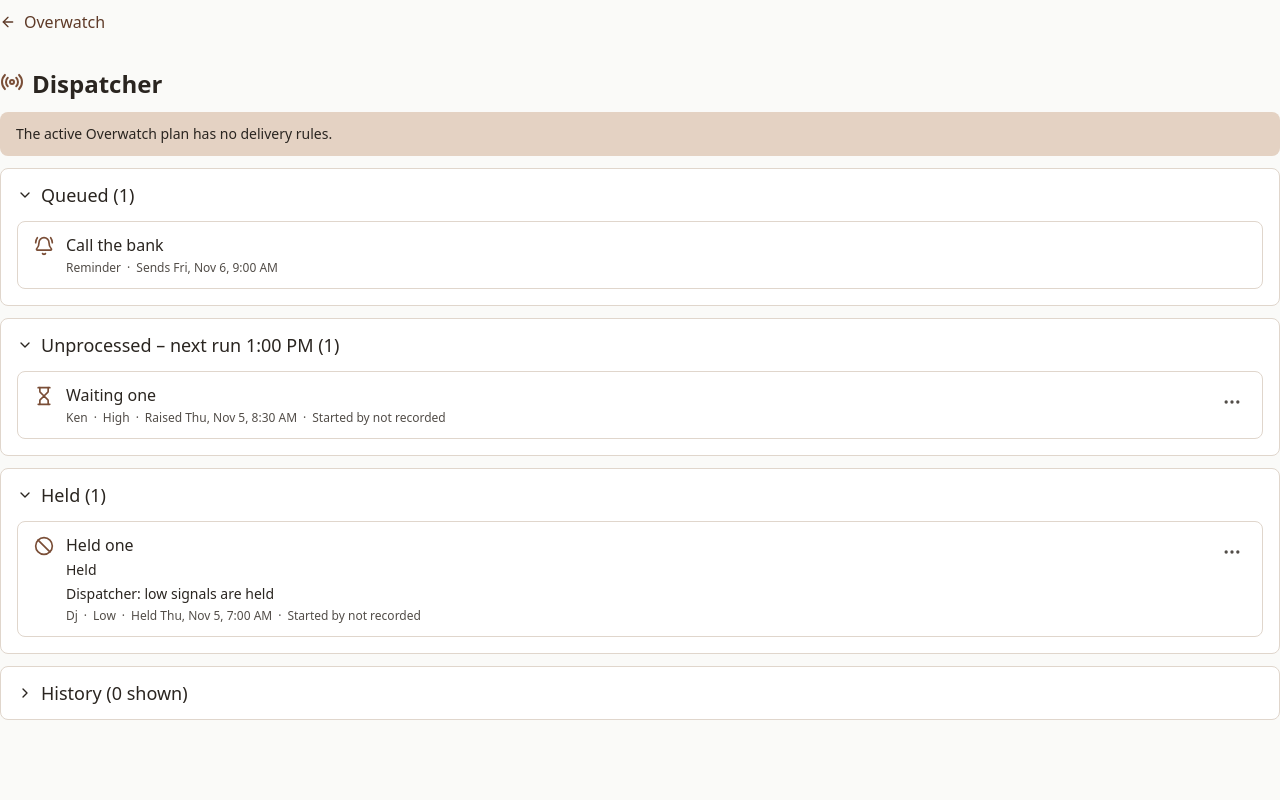
⋯ is on Unprocessed and Held cards only, above the link, and opens the actions
The image size is (1280, 800).
Expected: the button named "Actions for Held one" is shown, [1210,530,1254,574]
Click the button named "Actions for Waiting one" at x=1232, y=402, box [1210,380,1254,424]
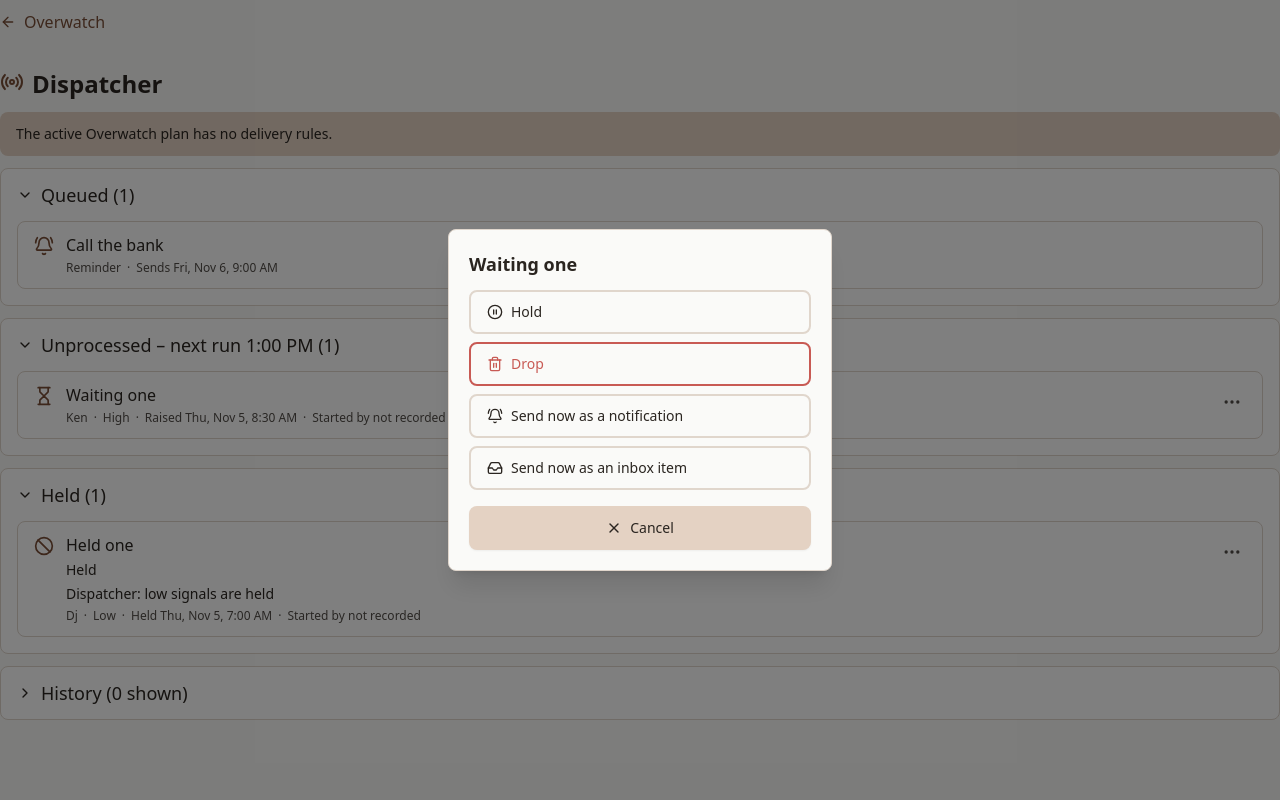
Result: the button "Hold" is shown at [469,290,811,334]
Click the button "Cancel" at x=640, y=528, box [469,506,811,550]
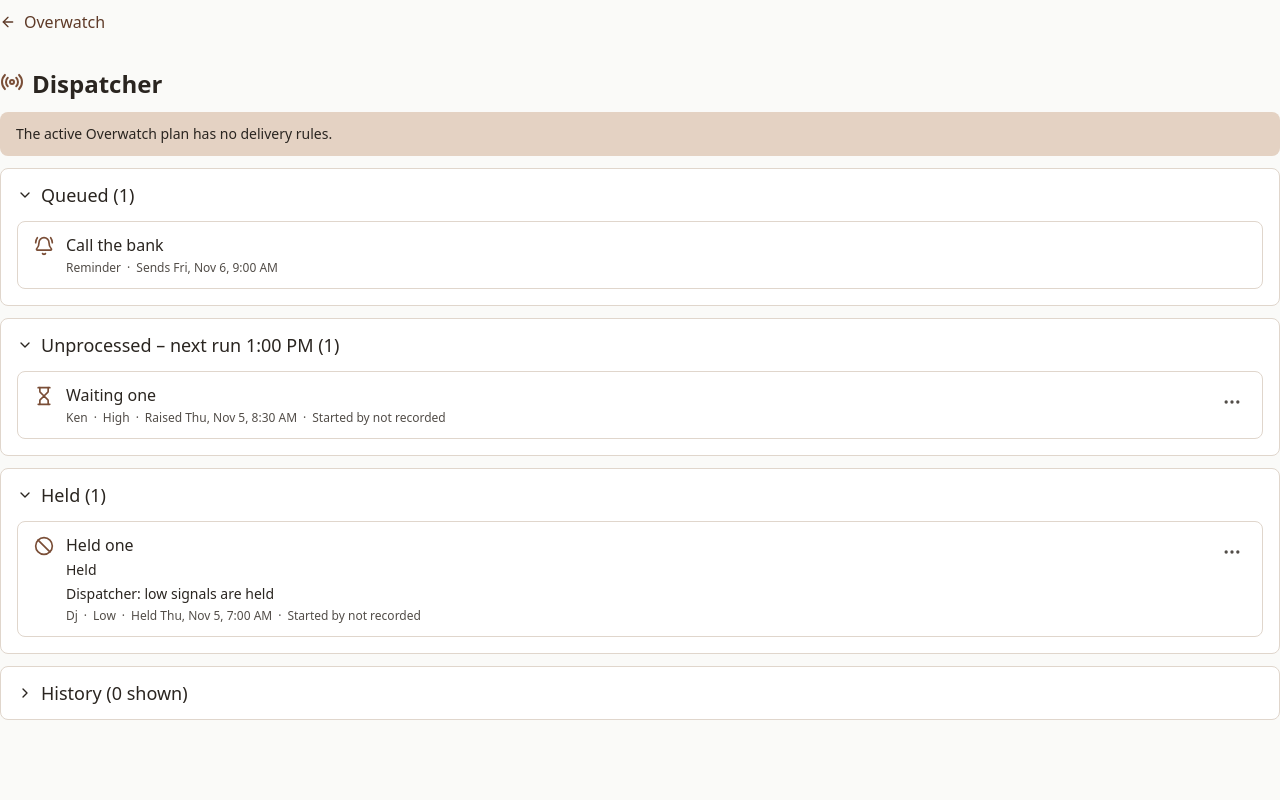
Result: the dialog is gone
